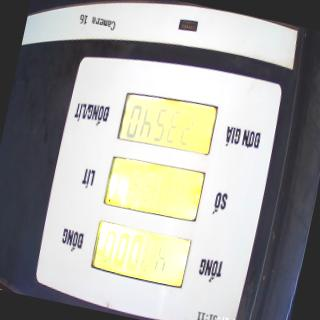screen: (86, 81, 222, 295)
